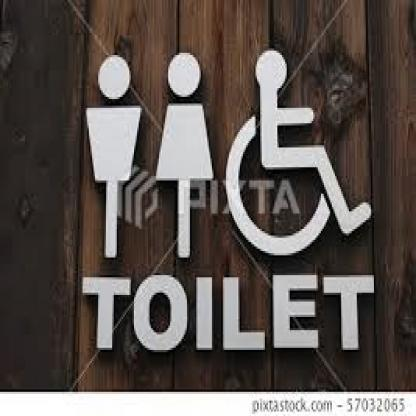toilet: (82, 31, 220, 267)
